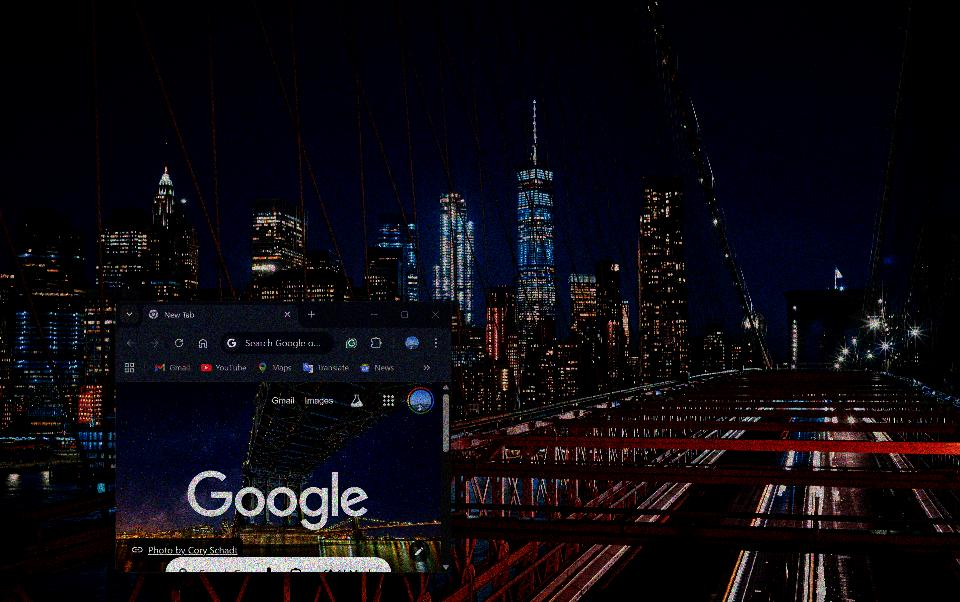close_button: (423, 303, 446, 328)
maximize_button: (394, 302, 416, 328)
minimize_button: (364, 302, 384, 328)
